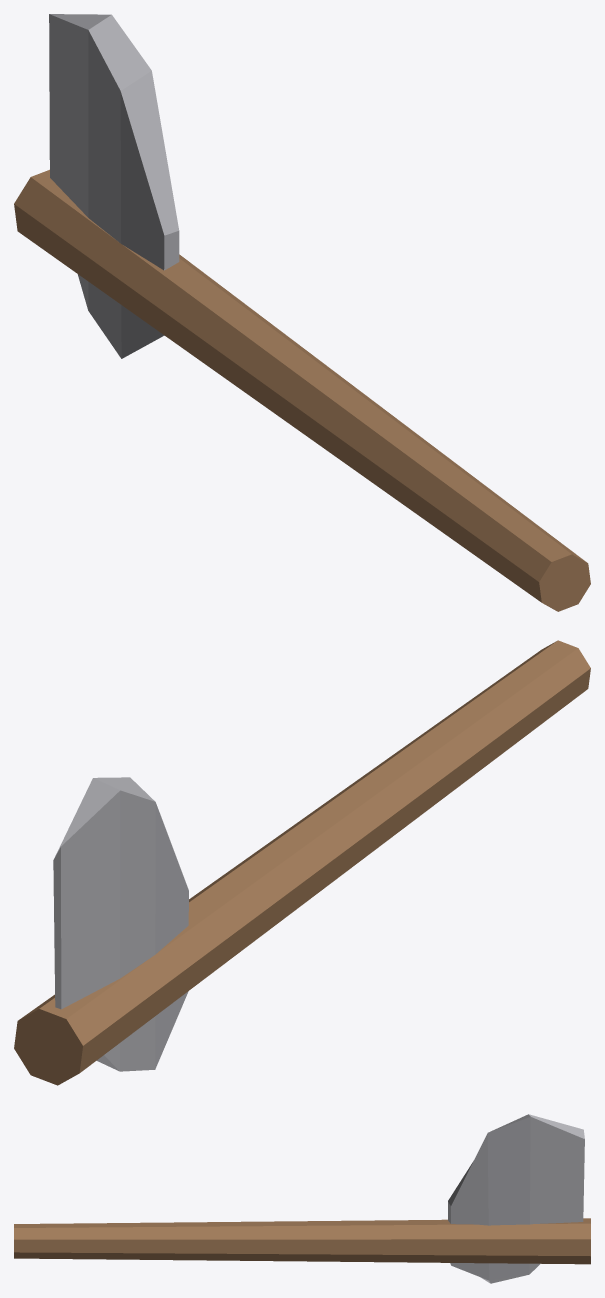
The model's file is axe.fbx.
3 views of the same model, one above another, from view 1: azimuth 30°, elevation 25°; view 2: azimuth 150°, elevation 25°; view 3: azimuth 270°, elevation 25° (orthographic). The views are drawn at different scales.
Visible parts, largest first — view 1: Handle; view 2: Handle; view 3: Handle.
Part boxes in pixels (box(x1,y1,x2,y2)): Handle: box(14, 14, 590, 611); Handle: box(14, 640, 590, 1085); Handle: box(14, 1114, 590, 1283).
Bounding box in the file's own units: 15.45 × 66.62 × 200.
